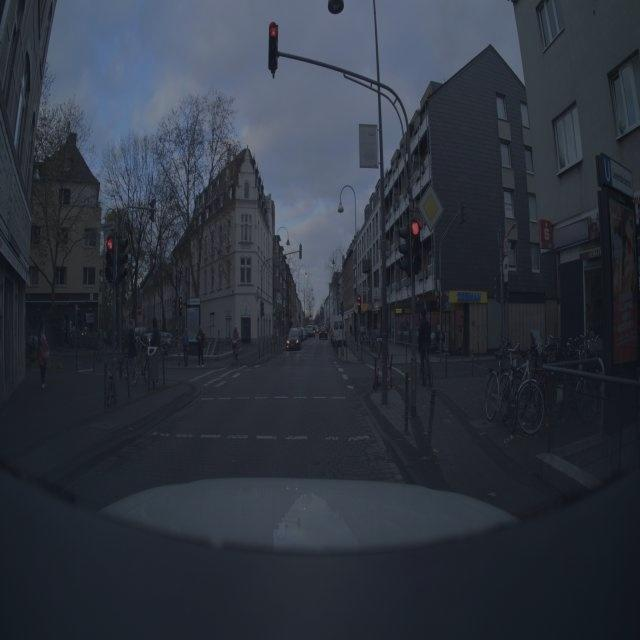Red: (240, 12, 298, 102), (88, 214, 140, 294), (398, 204, 440, 297)
